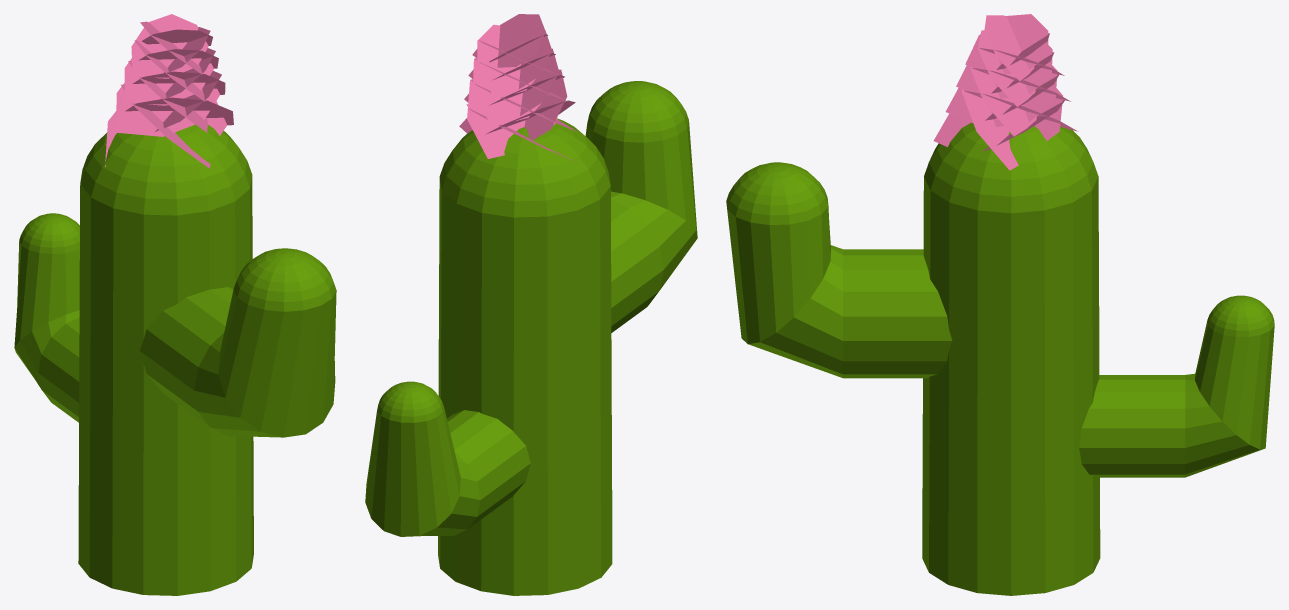
The model's file is Cactus.fbx.
3 views of the same model, side by side, from view 1: azimuth 30°, elevation 25°; view 2: azimuth 150°, elevation 25°; view 3: azimuth 270°, elevation 25° (orthographic).
Visible parts, largest first — view 1: Cactus, Flower; view 2: Cactus, Flower; view 3: Cactus, Flower.
Boxes of the visible parts, x1,y1,x2,y2 form: Cactus: (14, 124, 336, 595); Flower: (105, 14, 233, 168); Cactus: (365, 81, 697, 595); Flower: (459, 14, 577, 161); Cactus: (726, 122, 1274, 595); Flower: (933, 14, 1078, 170).
Bounding box in the file's own units: 62.83 × 211 × 193.
